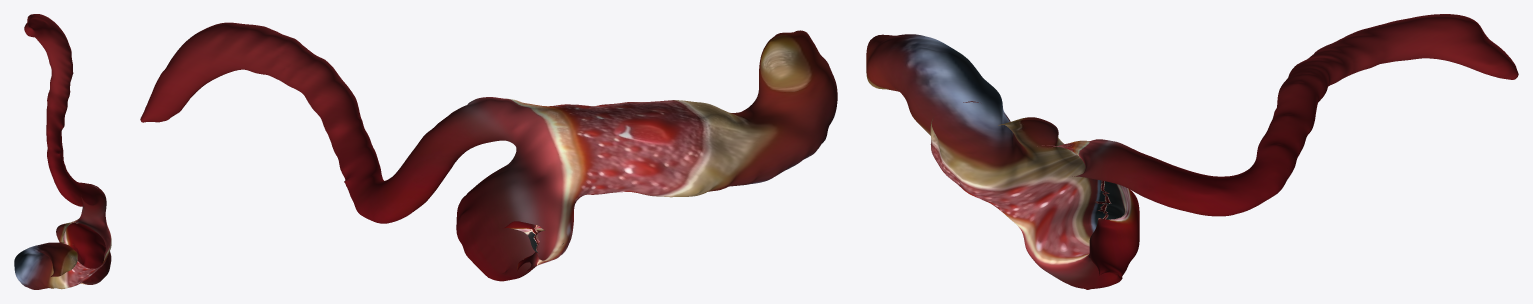
The picture shows the model from 3 angles, left to right: view 1: azimuth 30°, elevation 25°; view 2: azimuth 150°, elevation 25°; view 3: azimuth 270°, elevation 25°; orthographic projection. The views are drawn at different scales.
Visible parts, largest first — view 1: world; view 2: world; view 3: world.
Boxes of the visible parts, x1,y1,x2,y2 form: world: [14, 14, 111, 289]; world: [140, 22, 837, 281]; world: [866, 14, 1518, 289].
Size of the model in its own units: 87.56 by 83.54 by 155.
1 material, 1 textured.
